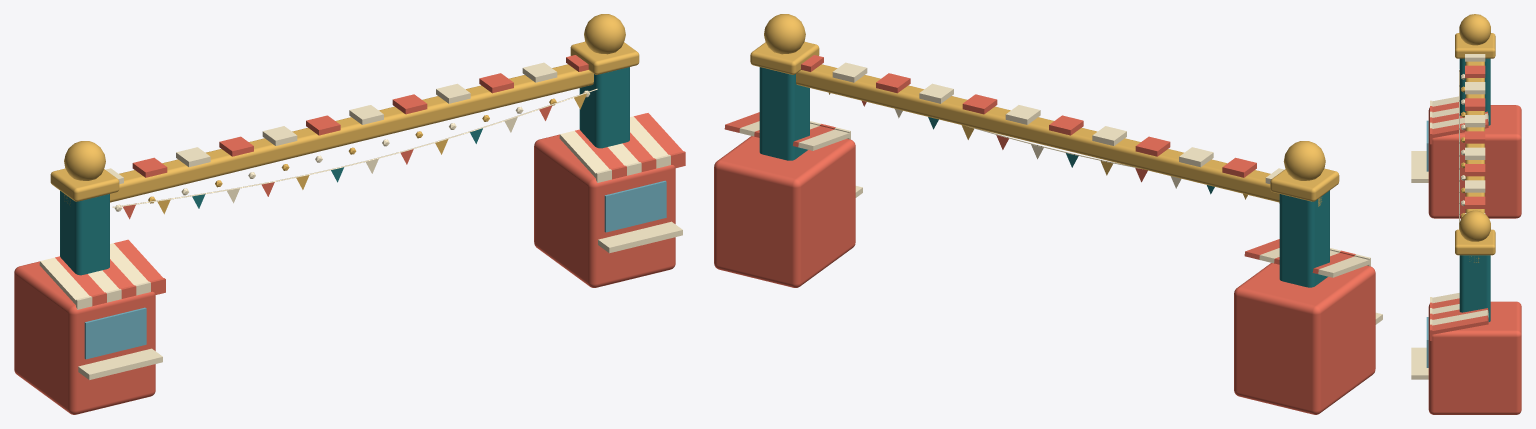
File: deco_gate.glb
3 views of the same model, side by side, from view 1: azimuth 30°, elevation 25°; view 2: azimuth 150°, elevation 25°; view 3: azimuth 270°, elevation 25° (orthographic). The views are drawn at different scales.
Visible parts, largest first — view 1: deco_gate; view 2: deco_gate; view 3: deco_gate.
Part boxes in pixels (<box>): deco_gate: <box>14,14,685,414</box>; deco_gate: <box>714,14,1382,414</box>; deco_gate: <box>1411,14,1521,414</box>.
Bounding box in the file's own units: 14.19 × 5.36 × 2.85.
